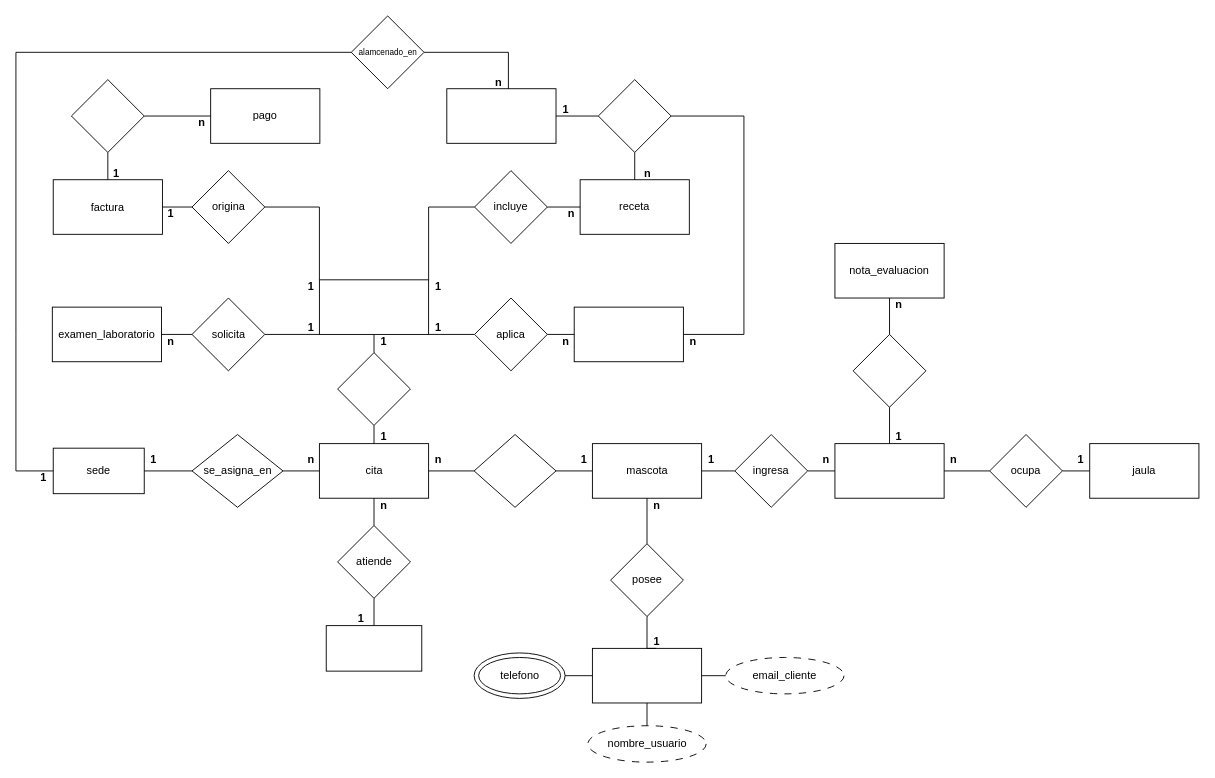
Some shapes in this 1215 by 778 pixel diagram are drawn without their labels. The box of each missing label's shape, as (x1, y1, x2, y2) in pixels:
agendar_para: (473, 434, 556, 507)
aplicacion_de_vacuna: (573, 306, 683, 362)
cliente: (592, 647, 702, 703)
consulta: (318, 279, 429, 334)
descuenta: (597, 79, 671, 152)
genera: (337, 352, 410, 425)
hospitalizacion: (834, 443, 944, 498)
lote/inventario: (446, 88, 556, 143)
recibe: (71, 79, 144, 152)
resgistra: (852, 334, 926, 407)
veterinario: (325, 625, 422, 671)
